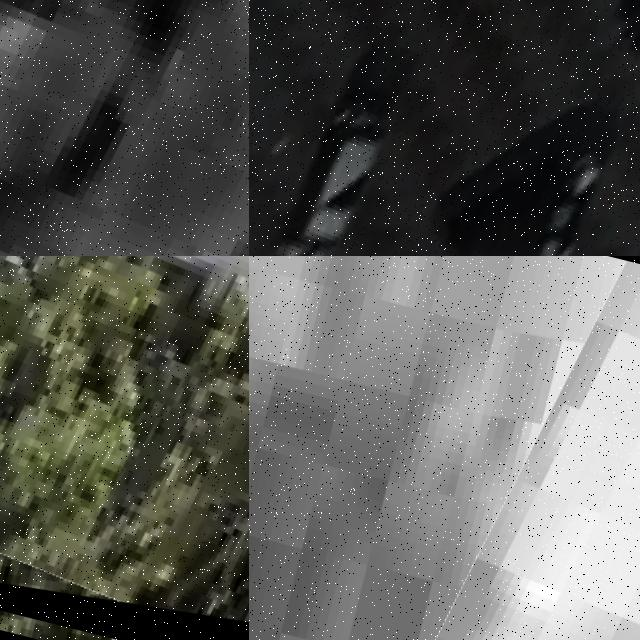drone: (371, 256, 640, 640), (249, 0, 640, 256), (0, 256, 249, 640), (0, 0, 249, 256)
